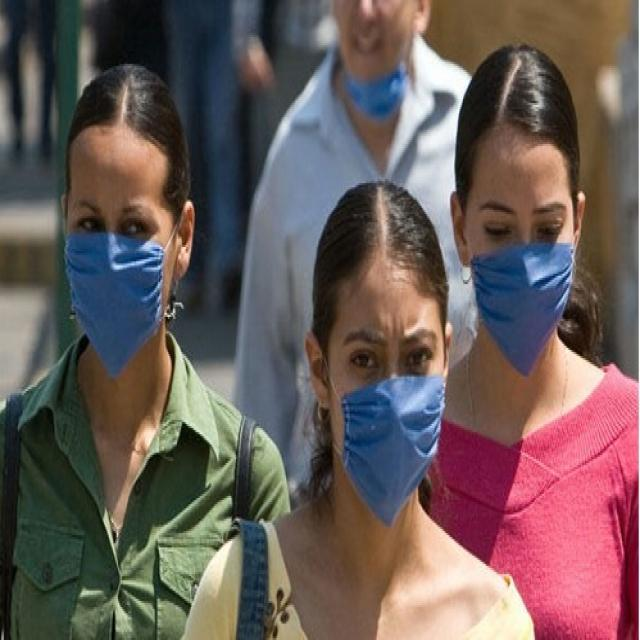mask: (337, 274, 438, 524), (64, 131, 162, 367), (470, 143, 569, 371), (332, 2, 409, 113)
